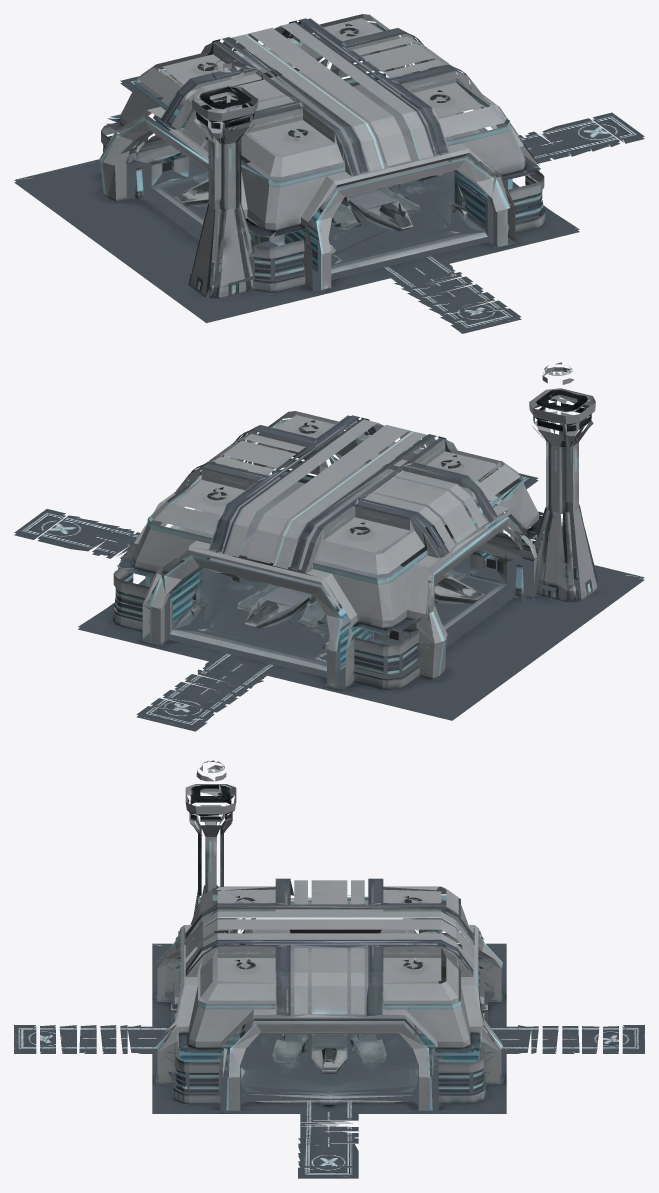
File: hangar_LOD2.glb
3 renders of one model, top to bottom at view 1: azimuth 30°, elevation 25°; view 2: azimuth 150°, elevation 25°; view 3: azimuth 270°, elevation 25°, orthographic. The views are drawn at different scales.
Visible parts, largest first — view 1: hangar_LOD2; view 2: hangar_LOD2; view 3: hangar_LOD2.
Boxes of the visible parts, x1,y1,x2,y2 form: hangar_LOD2: [14, 14, 644, 333]; hangar_LOD2: [14, 362, 644, 731]; hangar_LOD2: [14, 760, 644, 1178].
Bounding box in the file's own units: 0.8728 × 0.3601 × 1.
Materials: 1 (1 with a texture image).
